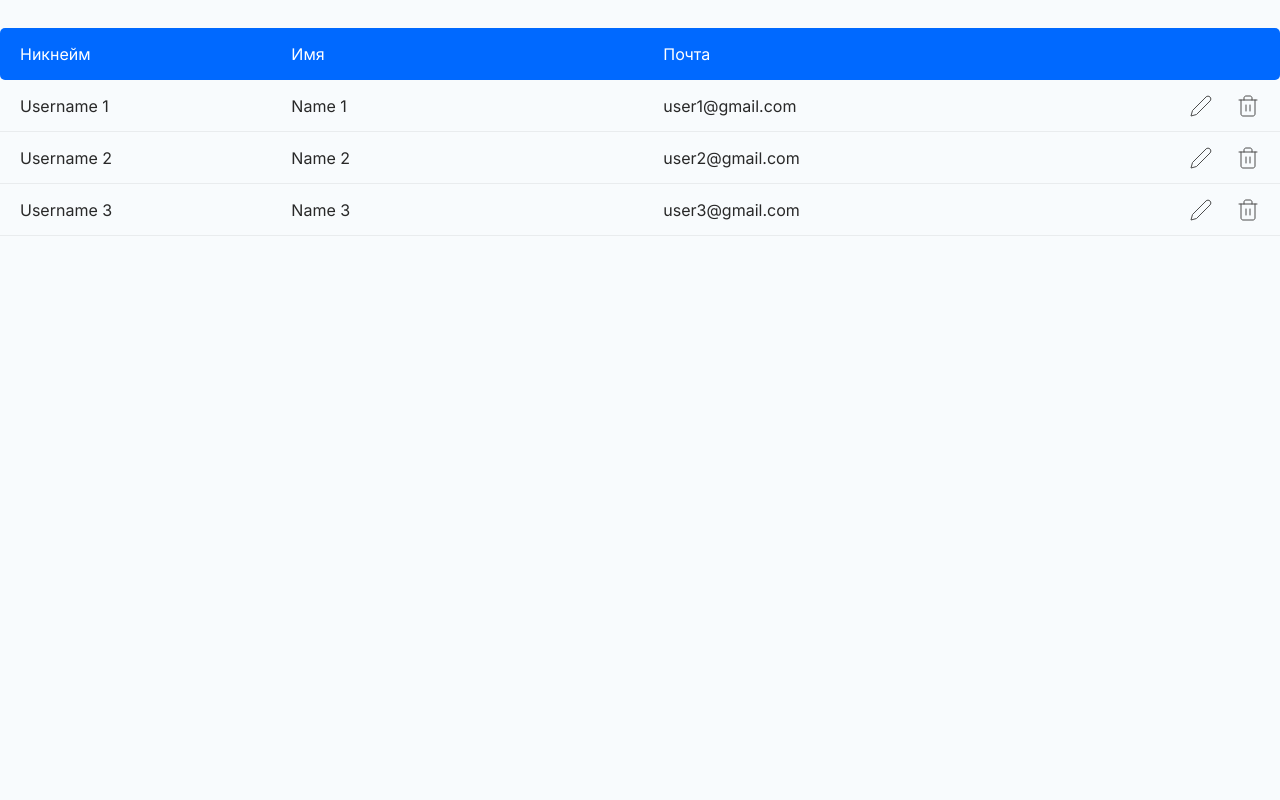
Users › should hidden modalManage if cross icon was clicked
Click the picture with alt text "pencil" in the row of "user1@gmail.com" at point(1201, 106), box top-left (1186, 90), bottom-right (1216, 120)
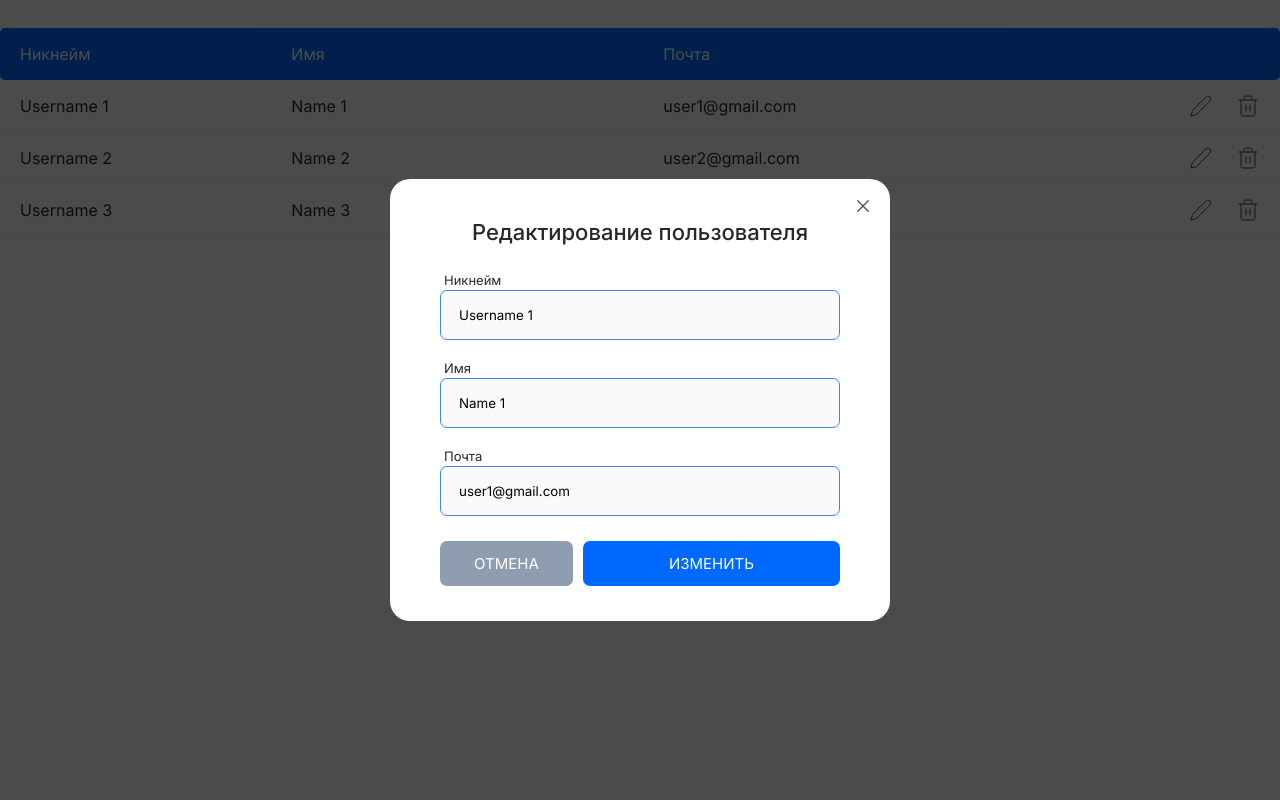
Click the picture with alt text "cross" at point(863, 206), box top-left (846, 189), bottom-right (880, 223)
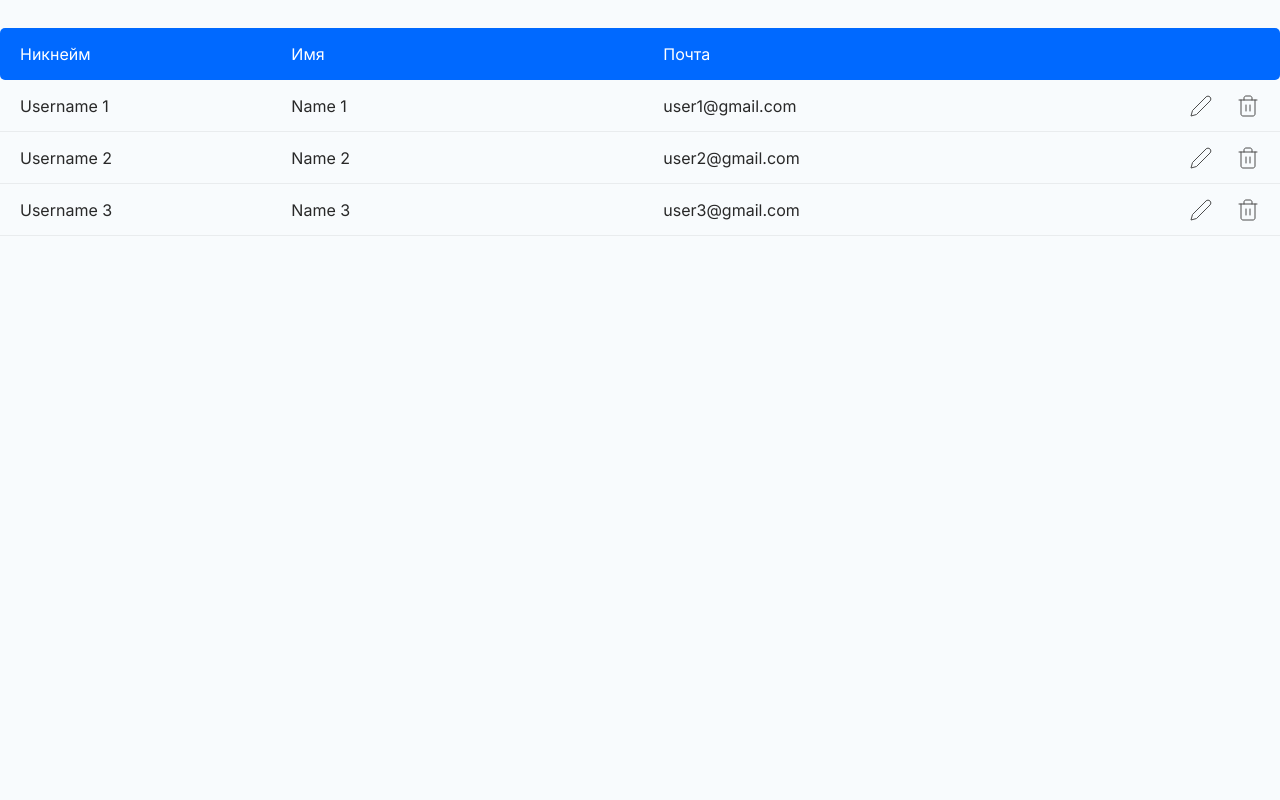
Expected: the form with test id "modalManage" is gone
